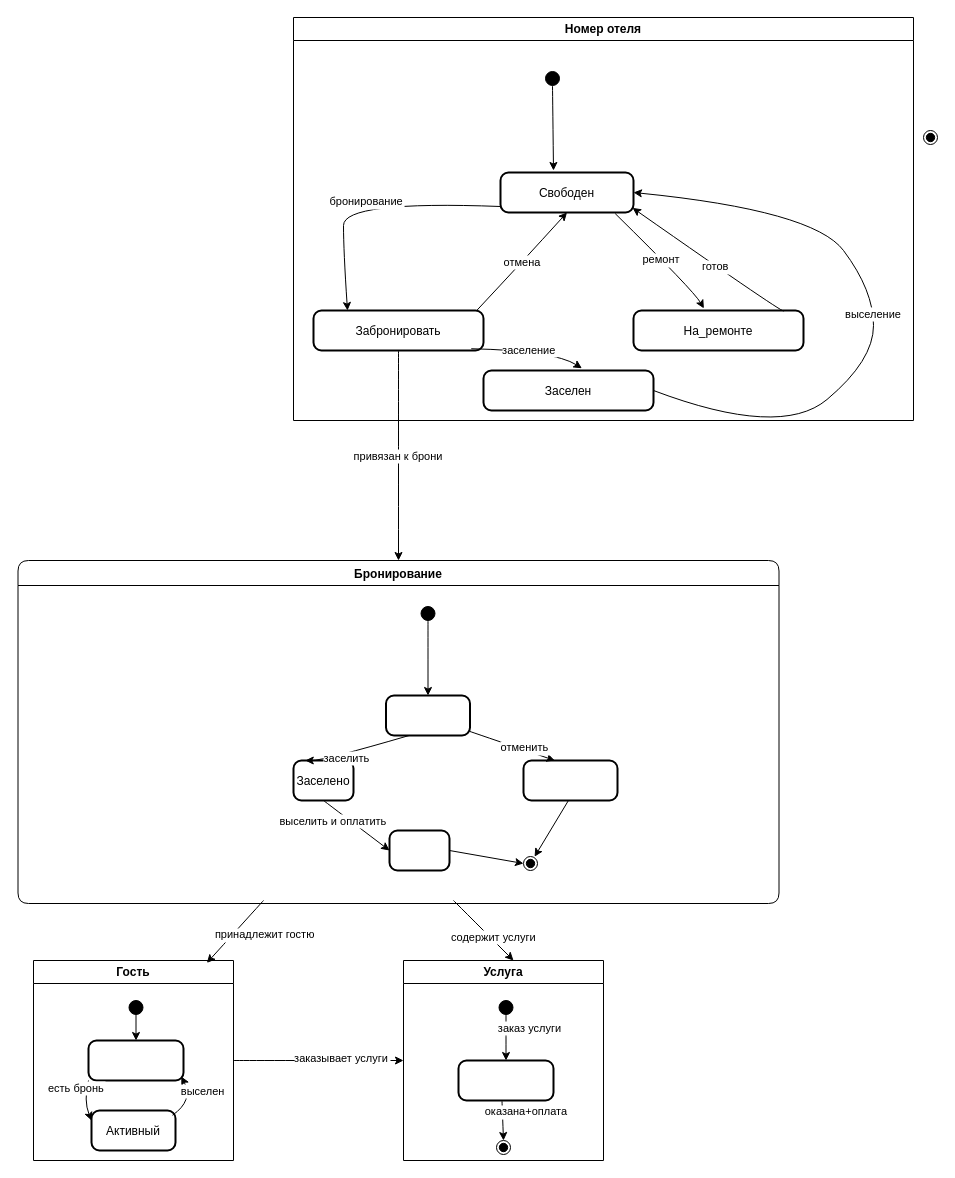
The diagram is 955 pixels wide and 1178 high, and some of its shapes have lost their labels. Here are the shapes that lost their labels. From the top down, the box of each, then its label:
(384, 694, 470, 736): Подтверждено
(522, 759, 618, 801): Отменено
(388, 829, 450, 871): Выселено
(87, 1039, 184, 1081): Зарегестрирован
(457, 1059, 554, 1101): Заказана
